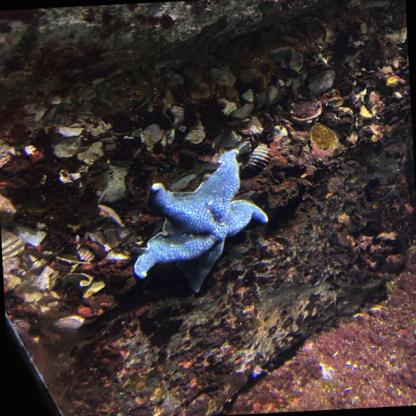starfish: (127, 147, 273, 297)
